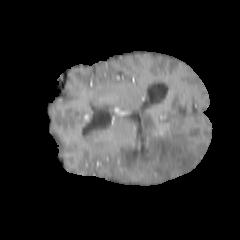glioma: (119, 108, 200, 178)
